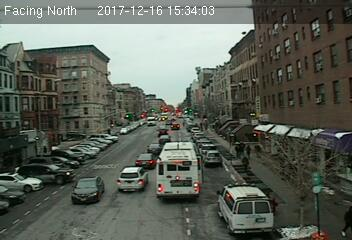bus: (154, 141, 202, 202)
car: (115, 165, 150, 194), (69, 176, 104, 203), (134, 152, 154, 167), (203, 150, 221, 166), (147, 144, 162, 154)
police: (215, 182, 278, 235)
